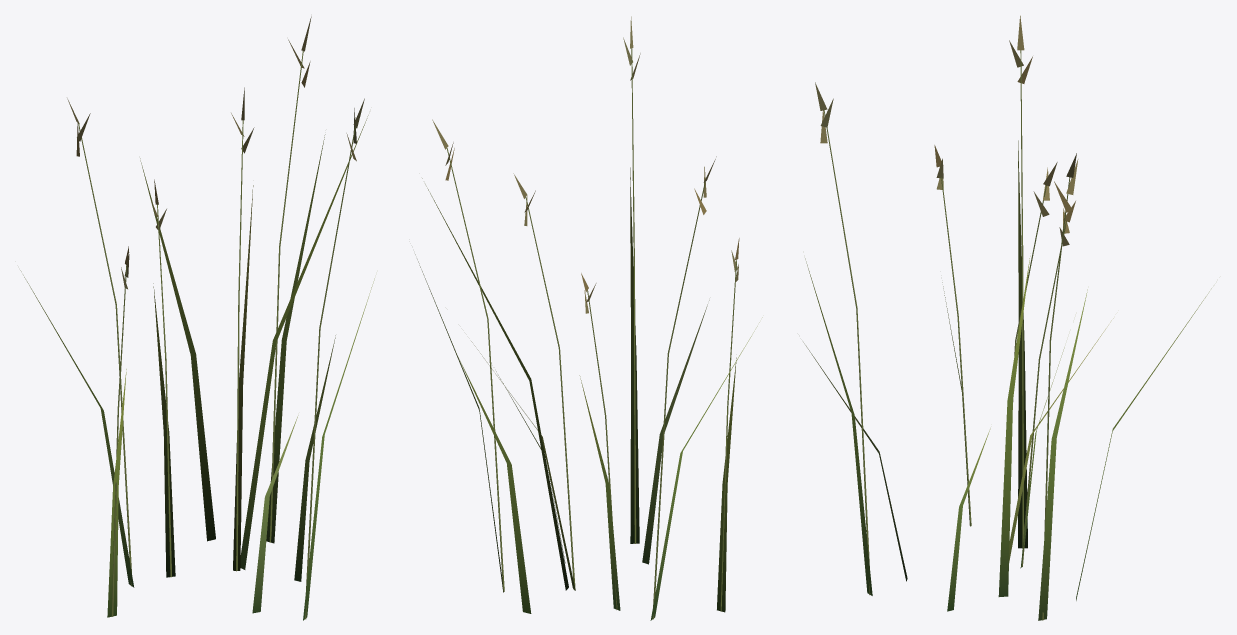
File: grass-meadow-b.lod1.glb
3 views of the same model, side by side, from view 1: azimuth 30°, elevation 25°; view 2: azimuth 150°, elevation 25°; view 3: azimuth 270°, elevation 25° (orthographic). The views are drawn at different scales.
Parts seen in each view (by area): view 1: grass-meadow-b.lod1; view 2: grass-meadow-b.lod1; view 3: grass-meadow-b.lod1.
Boxes of the visible parts, bbox=[...] form: grass-meadow-b.lod1: bbox=[20, 16, 374, 620]; grass-meadow-b.lod1: bbox=[415, 16, 762, 620]; grass-meadow-b.lod1: bbox=[803, 15, 1211, 620].
Size of the model in its own units: 0.6896 by 0.9665 by 0.7069.
